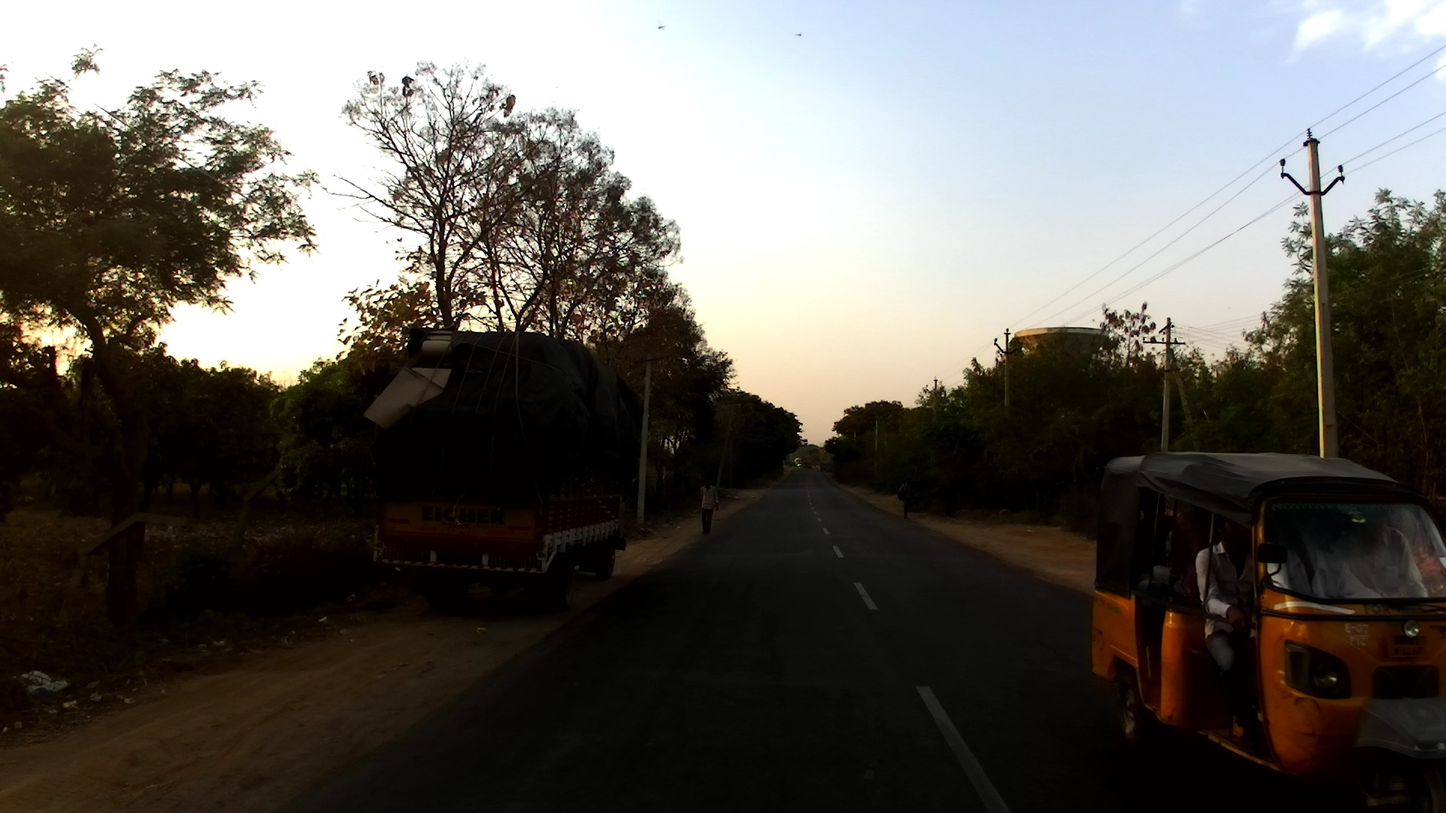autorickshaw: (1088, 452, 1444, 809)
person: (696, 480, 716, 537), (895, 476, 914, 520)
truck: (361, 325, 645, 614), (800, 455, 815, 468)
vehicle fallback: (793, 457, 804, 469)
